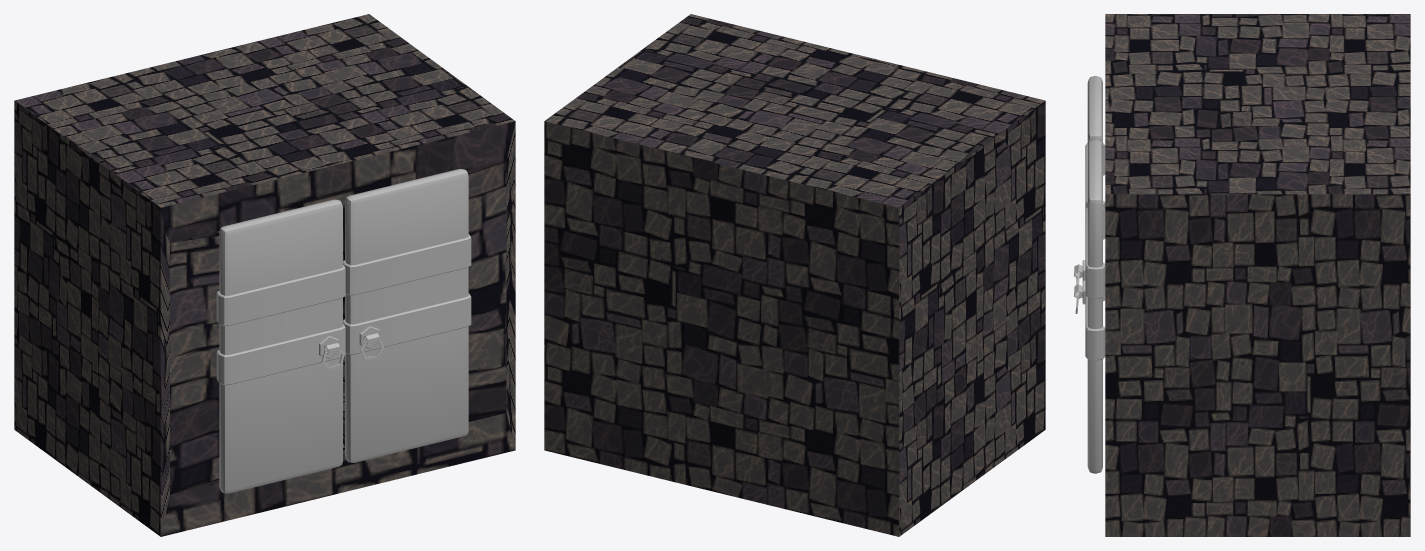
File: levelPicker_Low.fbx
The picture shows the model from 3 angles, left to right: view 1: azimuth 30°, elevation 25°; view 2: azimuth 150°, elevation 25°; view 3: azimuth 270°, elevation 25°; orthographic projection. The views are drawn at different scales.
Parts seen in each view (by area): view 1: Box001, Box003, Box002; view 2: Box001; view 3: Box001, Box002, Box003.
Part boxes in pixels (x1=…): Box001: x1=14, y1=14, x2=515, y2=536; Box003: x1=216, y1=199, x2=345, y2=493; Box002: x1=343, y1=169, x2=471, y2=462; Box001: x1=544, y1=14, x2=1045, y2=536; Box001: x1=1105, y1=14, x2=1410, y2=536; Box002: x1=1074, y1=140, x2=1105, y2=473; Box003: x1=1074, y1=76, x2=1105, y2=285.
Bounding box in the file's own units: 280 × 248 × 220.
Materials: 2 (1 with a texture image).
